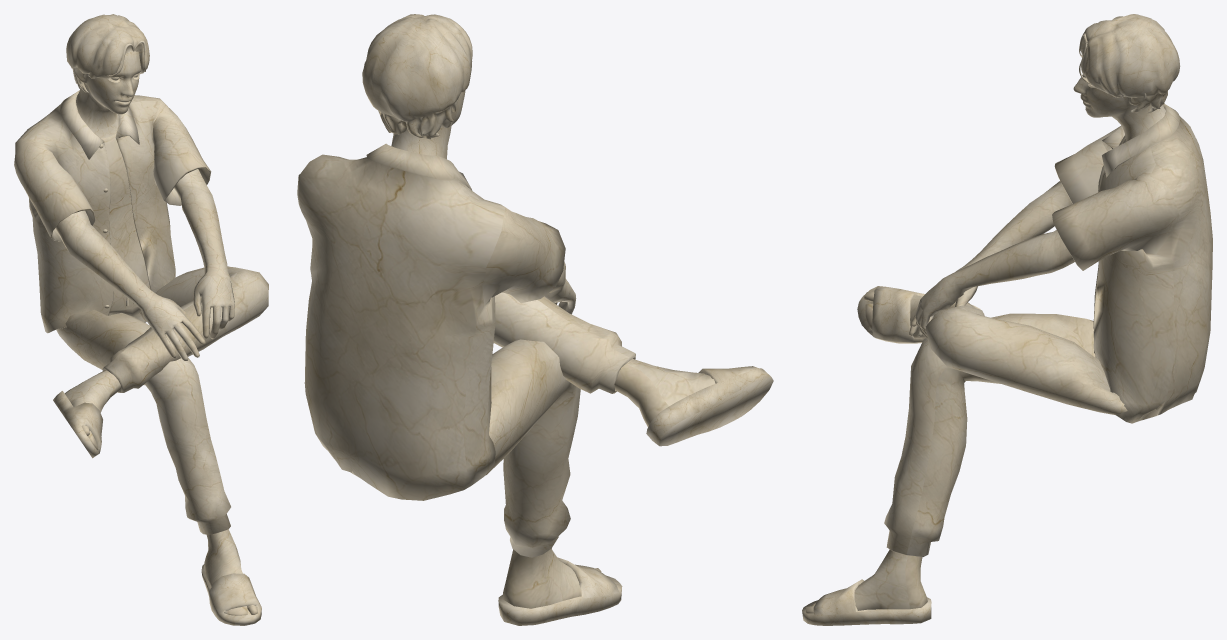
Rendered from Sample_Avatar_M_Sit_004.fbx.
The picture shows the model from 3 angles, left to right: view 1: azimuth 30°, elevation 25°; view 2: azimuth 150°, elevation 25°; view 3: azimuth 270°, elevation 25°; orthographic projection. The views are drawn at different scales.
Parts seen in each view (by area): view 1: Sample_Avatar_M_Sit_004; view 2: Sample_Avatar_M_Sit_004; view 3: Sample_Avatar_M_Sit_004.
Boxes of the visible parts, x1,y1,x2,y2 form: Sample_Avatar_M_Sit_004: (14, 14, 268, 625); Sample_Avatar_M_Sit_004: (297, 14, 773, 625); Sample_Avatar_M_Sit_004: (802, 14, 1212, 625).
Size of the model in its own units: 0.6652 by 1.38 by 0.8625.
